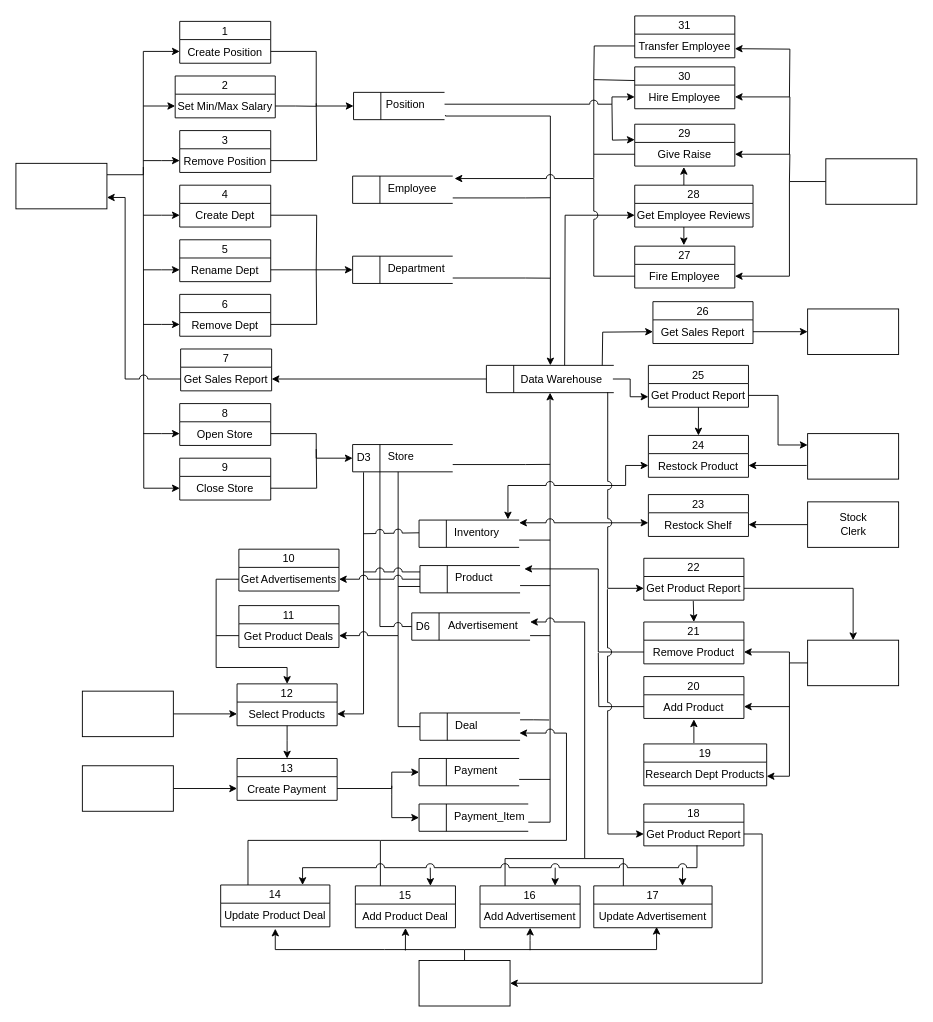
Some shapes in this 933 by 1022 pixel diagram are drawn without their labels. Each missing label, with the box of its shape:
Cashier: (81, 765, 173, 811)
Chief Financial Officer: (807, 308, 899, 354)
Chief Marketing Officer: (418, 960, 510, 1006)
Chief Operations Officer: (15, 162, 107, 209)
Chief Product Officer: (807, 639, 899, 686)
Customer: (81, 690, 173, 737)
D1: (353, 91, 445, 120)
D10: (418, 803, 528, 831)
D2: (352, 255, 453, 283)
D4: (418, 519, 519, 547)
D5: (419, 565, 520, 593)
D7: (419, 712, 520, 740)
D8: (352, 175, 453, 203)
D9: (418, 758, 519, 786)
DW: (485, 364, 614, 393)
Human Resources: (825, 158, 917, 204)
Supplier: (807, 433, 899, 479)
